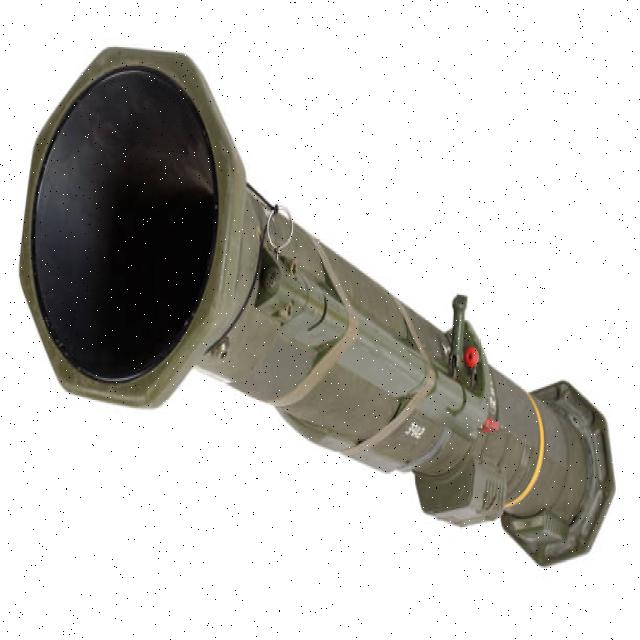bazooka: (15, 38, 622, 578)
